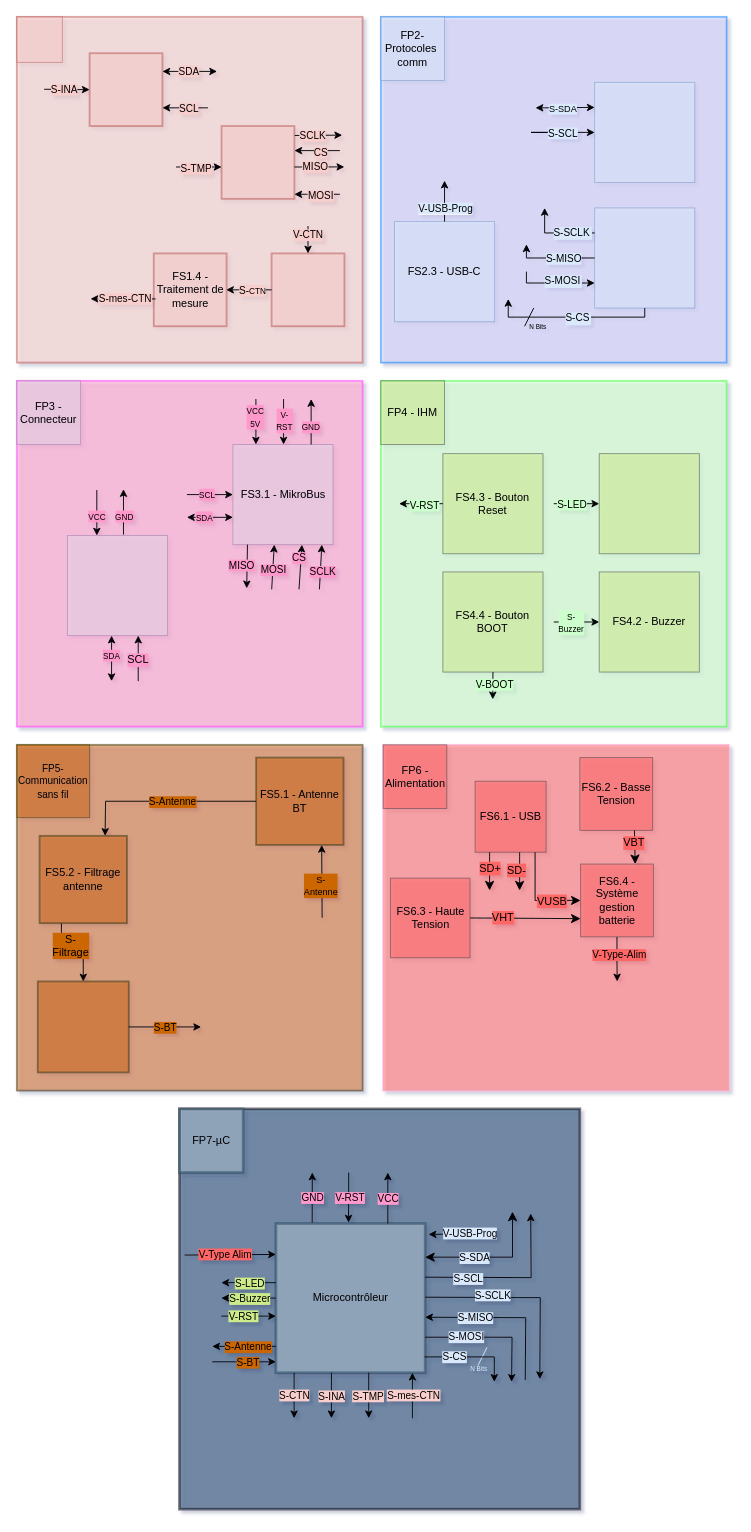
This 751x1532 diagram has some shape labels left out. Here are the shapes that lost their labels. From the top down, the centre of each, then its label:
the point at 39,39: FP1- Mesure
the point at 125,89: FS1.1 - INA
the point at 644,131: FS2.1 - I2C
the point at 257,162: FS1.2 - Capteur température
the point at 644,257: FS2.2 - SPI
the point at 307,289: FS1.5 - CTN
the point at 648,503: FS4.1 - LED
the point at 117,585: FS3.2 - Grove x2
the point at 82,1026: FS5.3 - Traitement de signal
